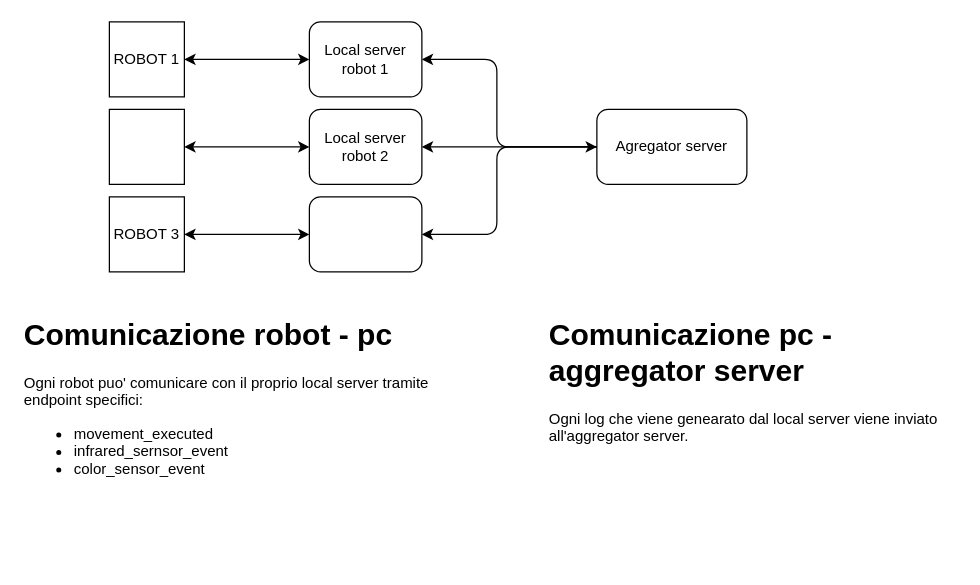
Image size: 980x585. Some labels were removed from this diagram. The box of each missing label's shape, as (x1, y1, x2, y2) in pixels:
Local server robot 3: (308, 196, 422, 272)
ROBOT 2: (108, 108, 184, 184)
